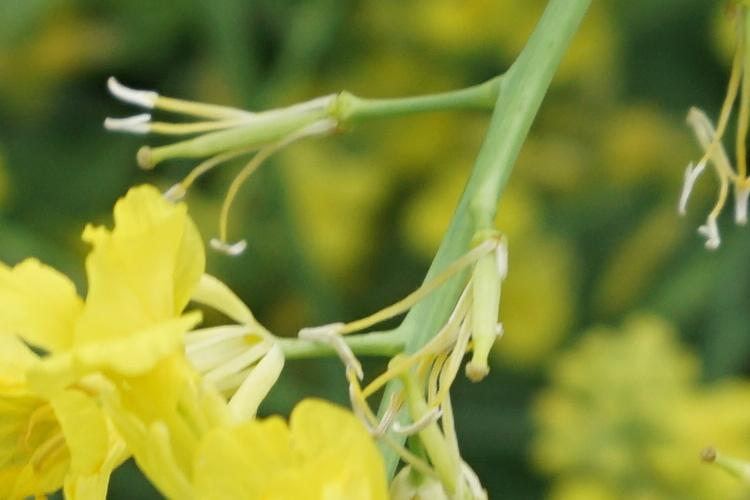pod: (108, 84, 343, 164), (378, 353, 467, 500), (699, 432, 750, 483)
yellow: (19, 205, 293, 429), (30, 338, 203, 498), (214, 406, 387, 500)
